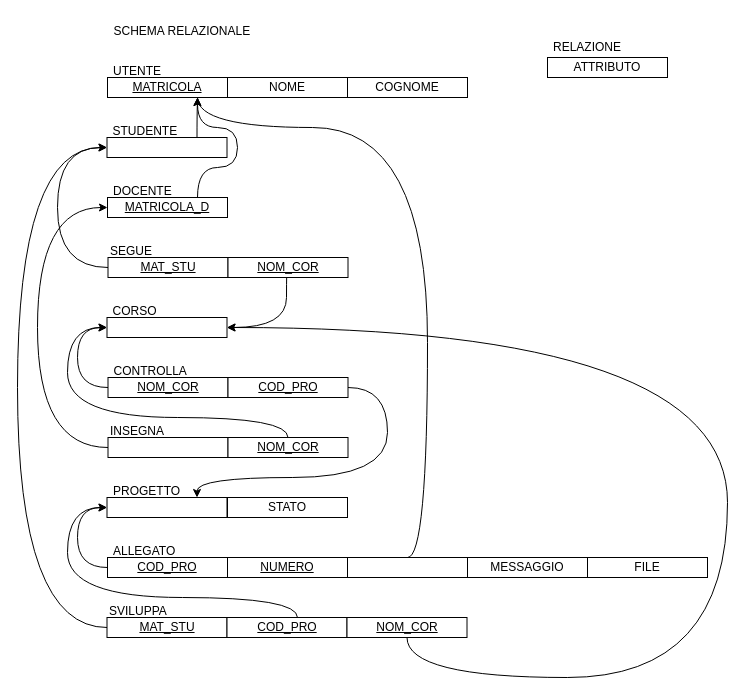
Image size: 745x695. Some labels were removed from this diagram. Each missing label, with the centre of its shape:
"CODICE_PROGETTO" belongs at [166,507].
"MAT_DOC" belongs at [167,447].
"MAT_MIT" belongs at [407,567].
"MATRICOLA_S" belongs at [166,147].
"NOME_CORSO" belongs at [166,327].
